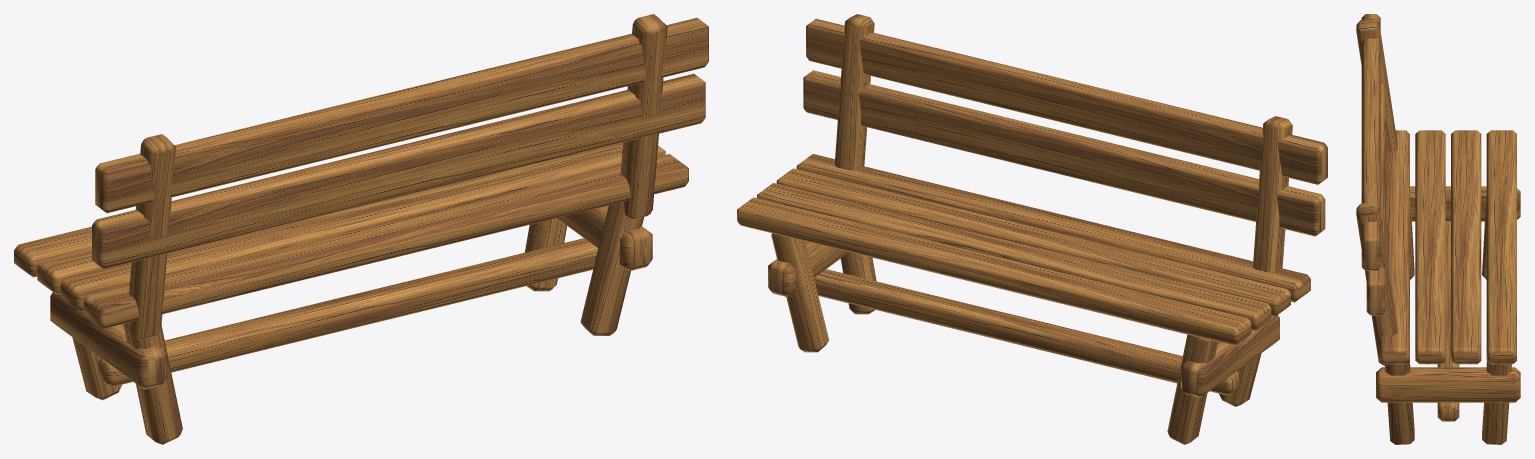
The model's file is 02_Banco_Respaldo.obj.
3 renders of one model, left to right at view 1: azimuth 30°, elevation 25°; view 2: azimuth 150°, elevation 25°; view 3: azimuth 270°, elevation 25°, orthographic. The views are drawn at different scales.
Parts seen in each view (by area): view 1: 02_Banco_Respaldo_Wood; view 2: 02_Banco_Respaldo_Wood; view 3: 02_Banco_Respaldo_Wood.
Part boxes in pixels (x1=…): 02_Banco_Respaldo_Wood: x1=14, y1=14, x2=708, y2=444; 02_Banco_Respaldo_Wood: x1=737, y1=14, x2=1327, y2=444; 02_Banco_Respaldo_Wood: x1=1356, y1=14, x2=1520, y2=444.
Size of the model in its own units: 1.85 by 0.9477 by 0.5686.
1 material, 1 textured.
